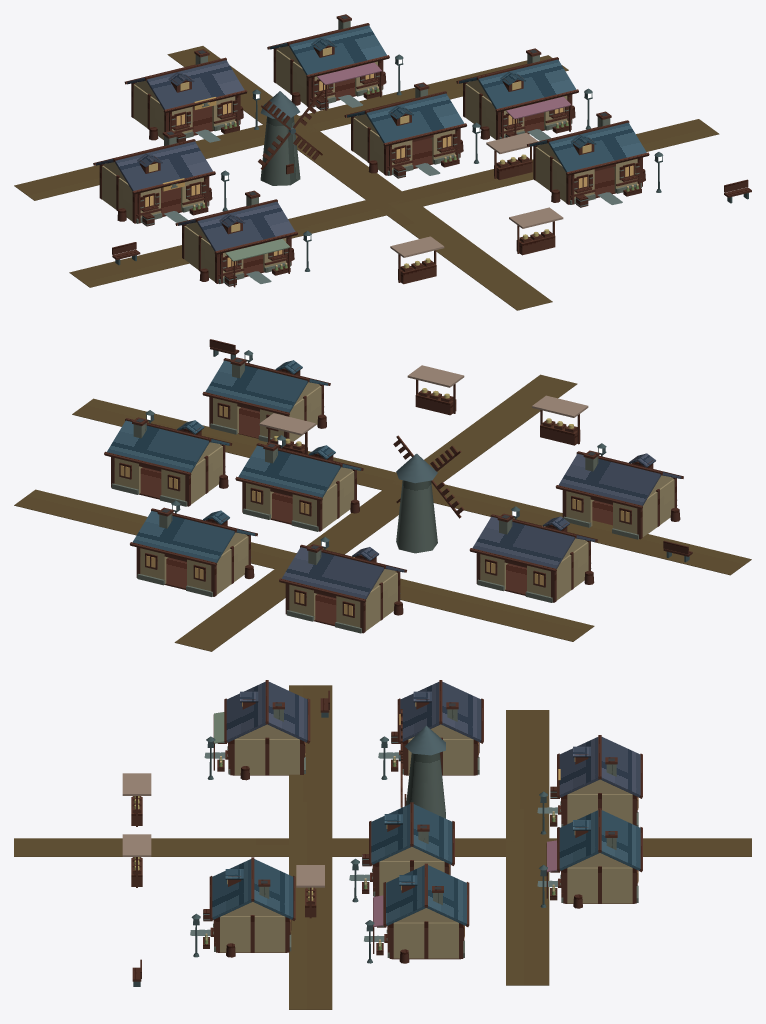
Rendered from windmill_town.glb.
3 views of the same model, one above another, from view 1: azimuth 30°, elevation 25°; view 2: azimuth 150°, elevation 25°; view 3: azimuth 270°, elevation 25° (orthographic). The views are drawn at different scales.
Parts seen in each view (by area): view 1: Street, _MeshInstance3D_468, _MeshInstance3D_469, _MeshInstance3D_210, _MeshInstance3D_444, _MeshInstance3D_269, _MeshInstance3D_328, _MeshInstance3D_94, _MeshInstance3D_152, _MeshInstance3D_386, _MeshInstance3D_3, _MeshInstance3D_839 (+17 smaller); view 2: Street, _MeshInstance3D_468, _MeshInstance3D_469, _MeshInstance3D_811, _MeshInstance3D_741, _MeshInstance3D_846, _MeshInstance3D_706, RoofSlope, _MeshInstance3D_774, _MeshInstance3D_673, _MeshInstance3D_3, _MeshInstance3D_647 (+25 smaller); view 3: _MeshInstance3D_469, _MeshInstance3D_468, Street, _MeshInstance3D_755, _MeshInstance3D_687, _MeshInstance3D_720, _MeshInstance3D_825, _MeshInstance3D_3, _MeshInstance3D_673, _MeshInstance3D_811, _MeshInstance3D_774, _MeshInstance3D_846 (+17 smaller).
Part boxes in pixels (box(x1,y1,x2,y2)): Street: box(167, 46, 552, 310); _MeshInstance3D_468: box(69, 119, 719, 287); _MeshInstance3D_469: box(14, 55, 568, 200); _MeshInstance3D_210: box(478, 59, 576, 109); _MeshInstance3D_444: box(289, 25, 386, 75); _MeshInstance3D_269: box(197, 201, 295, 251); _MeshInstance3D_328: box(548, 122, 646, 172); _MeshInstance3D_94: box(366, 93, 464, 143); _MeshInstance3D_152: box(115, 141, 212, 191); _MeshInstance3D_386: box(146, 60, 244, 109); _MeshInstance3D_3: box(260, 116, 300, 185); _MeshInstance3D_839: box(276, 49, 306, 105); Street: box(174, 374, 577, 651); _MeshInstance3D_468: box(72, 398, 751, 575); _MeshInstance3D_469: box(14, 489, 594, 641); _MeshInstance3D_811: box(282, 547, 384, 599); _MeshInstance3D_741: box(558, 453, 660, 505); _MeshInstance3D_846: box(133, 511, 234, 562); _MeshInstance3D_706: box(107, 420, 209, 472); RoofSlope: box(238, 445, 340, 497); _MeshInstance3D_774: box(205, 360, 307, 412); _MeshInstance3D_673: box(472, 516, 574, 568); _MeshInstance3D_3: box(396, 480, 437, 553); _MeshInstance3D_647: box(322, 471, 354, 529); _MeshInstance3D_469: box(506, 710, 549, 985); _MeshInstance3D_468: box(289, 685, 332, 1009); Street: box(14, 838, 751, 856); _MeshInstance3D_755: box(220, 916, 285, 952); _MeshInstance3D_687: box(393, 922, 458, 958); _MeshInstance3D_720: box(234, 739, 299, 775); _MeshInstance3D_825: box(567, 867, 632, 903); _MeshInstance3D_3: box(406, 752, 445, 818); _MeshInstance3D_673: box(441, 681, 481, 742); _MeshInstance3D_811: box(600, 737, 640, 797); _MeshInstance3D_774: box(253, 859, 293, 919); _MeshInstance3D_846: box(600, 810, 640, 870).
Size of the model in its own units: 53 by 7.43 by 51.
Materials: 92 (9 with a texture image).
